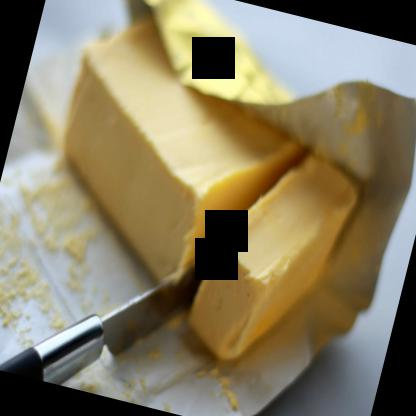butter: (34, 19, 322, 298), (173, 131, 367, 390)
